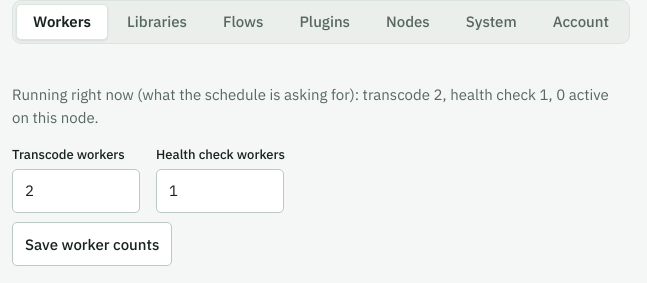
it: Workers tab › saves the typed counts and re-seeds the fields from the response
The image size is (647, 283).
Replace the text in the field labelled "Transcode workers" with "4": (76, 191) [12, 169, 140, 213]
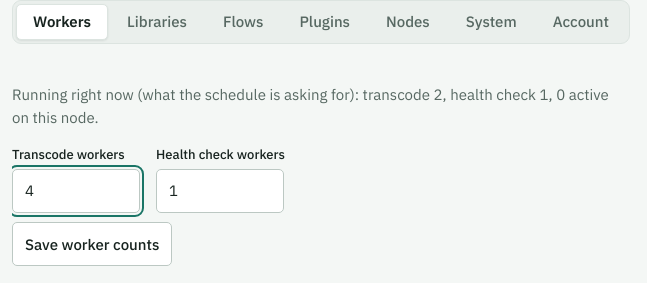
Click the button "Save worker counts": (92, 244) [12, 222, 172, 266]
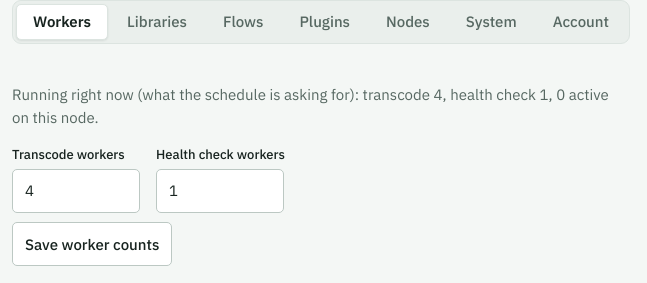
Expected: the text "Running right now" shows "transcode 4", [12, 83, 624, 130]
